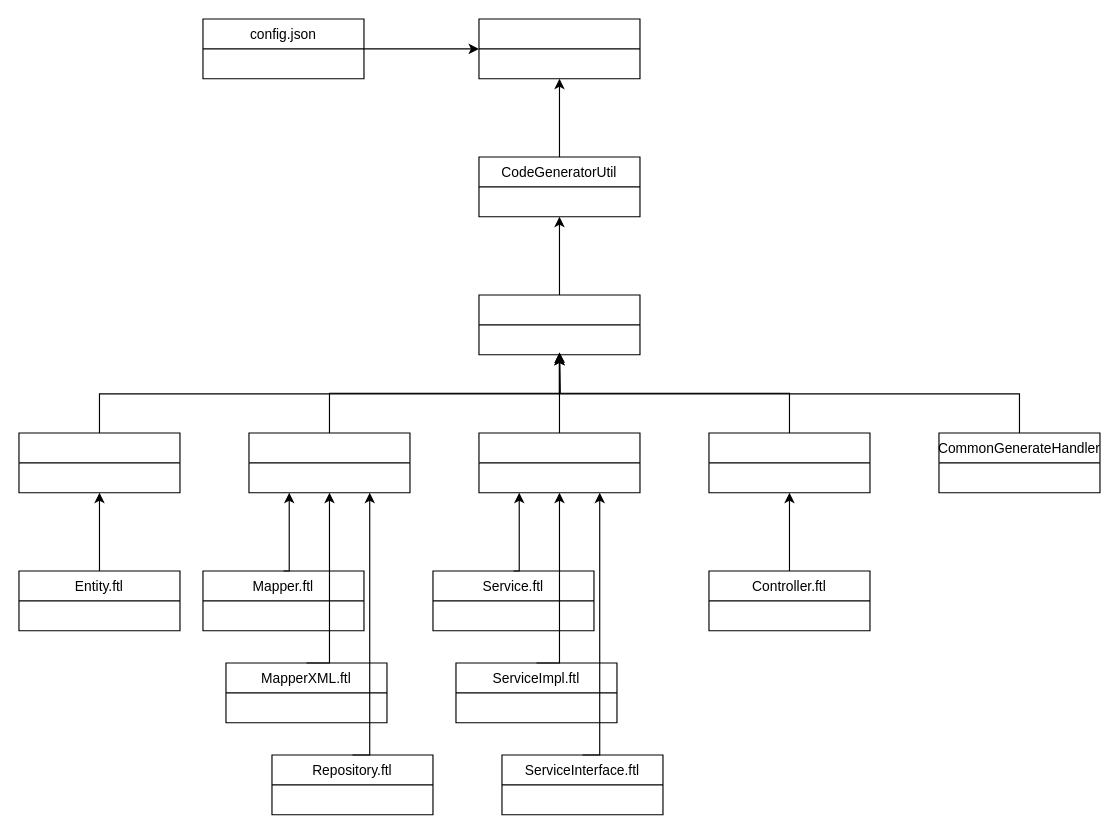
The diagram is 1119 pixels wide and 834 high, and some of its shapes have lost their labels. Each missing label, with the box of its shape:
CodeGenerator: (478, 18, 640, 79)
GenerateControllerHandler: (708, 432, 870, 493)
GenerateDaoHandler: (248, 432, 410, 493)
GenerateEntityHandler: (18, 432, 180, 493)
GenerateServiceFactory: (478, 432, 640, 493)
GenerateStrategyFactory: (478, 294, 640, 355)
